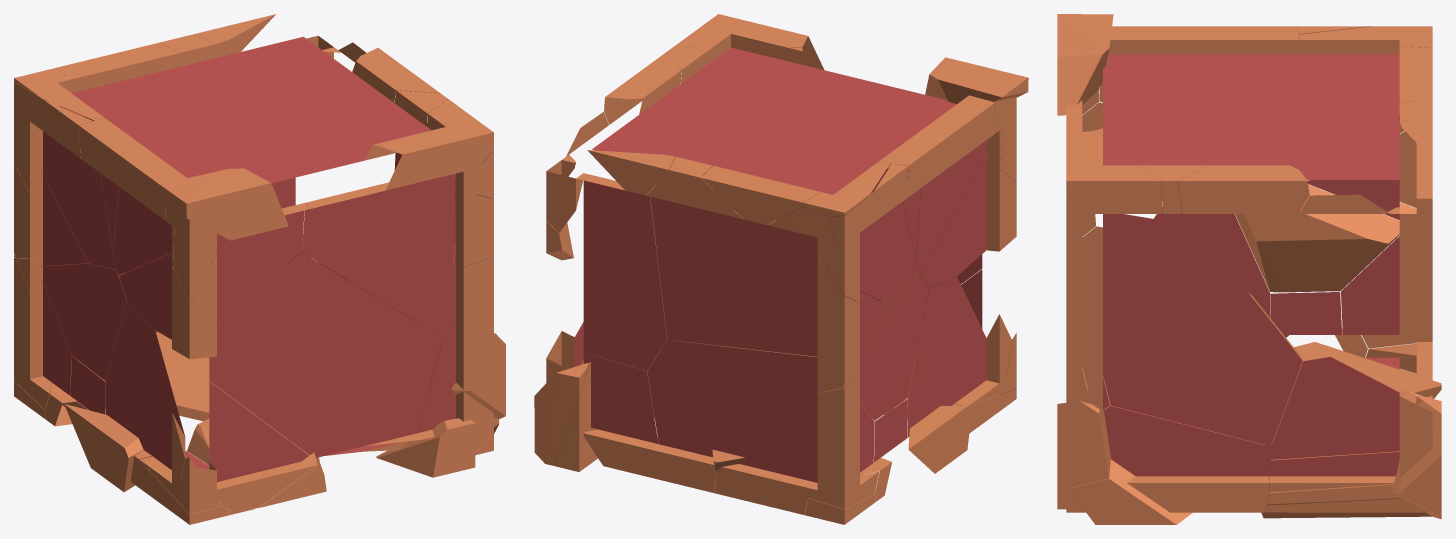
File: CrateBreak.fbx
3 views of the same model, side by side, from view 1: azimuth 30°, elevation 25°; view 2: azimuth 150°, elevation 25°; view 3: azimuth 270°, elevation 25° (orthographic). The views are drawn at different scales.
Visible parts, largest first — view 1: Cube.006_cell.009, Cube.011, Cube.006_cell, Cube.011_cell.003, Cube.010_cell.011, Cube.010_cell.012, Cube.010_cell.005, Cube.010_cell.007, Cube.007_cell.016, Cube.007_cell.020, Cube.011_cell.002, Cube.006_cell.010 (+32 smaller); view 2: Cube.011, Cube.006_cell.003, Cube.006_cell.005, Cube.006_cell.004, Cube.010_cell.011, Cube.011_cell.003, Cube.010_cell.007, Cube.010_cell.005, Cube.010_cell.012, Cube.010_cell.013, Cube.010_cell.014, Cube.007_cell.006 (+32 smaller); view 3: Cube.011, Cube.008_cell.018, Cube.008_cell.017, Cube.008_cell.019, Cube.008_cell.008, Cube.010_cell.012, Cube.011_cell.003, Cube.011_cell.002, Cube.008_cell.015, Cube.007_cell.021, Cube.007_cell.020, Cube.007_cell.006 (+28 smaller).
Boxes of the visible parts, x1=… form: Cube.006_cell.009: x1=209, y1=252, x2=442, y2=457; Cube.011: x1=146, y1=36, x2=431, y2=183; Cube.006_cell: x1=302, y1=173, x2=455, y2=337; Cube.011_cell.003: x1=157, y1=37, x2=383, y2=126; Cube.010_cell.011: x1=105, y1=301, x2=185, y2=487; Cube.010_cell.012: x1=17, y1=258, x2=135, y2=379; Cube.010_cell.005: x1=14, y1=110, x2=115, y2=269; Cube.010_cell.007: x1=119, y1=252, x2=216, y2=359; Cube.007_cell.016: x1=159, y1=168, x2=288, y2=240; Cube.007_cell.020: x1=381, y1=99, x2=493, y2=190; Cube.011_cell.002: x1=72, y1=72, x2=212, y2=147; Cube.006_cell.010: x1=209, y1=381, x2=308, y2=481; Cube.011: x1=597, y1=47, x2=956, y2=194; Cube.006_cell.003: x1=646, y1=189, x2=817, y2=356; Cube.006_cell.005: x1=647, y1=340, x2=817, y2=482; Cube.006_cell.004: x1=576, y1=173, x2=666, y2=370; Cube.010_cell.011: x1=908, y1=276, x2=1011, y2=437; Cube.011_cell.003: x1=592, y1=92, x2=816, y2=174; Cube.010_cell.007: x1=921, y1=152, x2=1016, y2=287; Cube.010_cell.005: x1=817, y1=201, x2=917, y2=305; Cube.010_cell.012: x1=843, y1=274, x2=928, y2=420; Cube.010_cell.013: x1=817, y1=258, x2=890, y2=392; Cube.010_cell.014: x1=817, y1=386, x2=874, y2=496; Cube.007_cell.006: x1=880, y1=95, x2=994, y2=195; Cube.011: x1=1103, y1=54, x2=1399, y2=179; Cube.008_cell.018: x1=1069, y1=291, x2=1302, y2=446; Cube.008_cell.017: x1=1066, y1=210, x2=1246, y2=311; Cube.008_cell.019: x1=1104, y1=406, x2=1270, y2=512; Cube.008_cell.008: x1=1271, y1=357, x2=1432, y2=477; Cube.010_cell.012: x1=1235, y1=184, x2=1416, y2=292; Cube.011_cell.003: x1=1235, y1=98, x2=1399, y2=179; Cube.011_cell.002: x1=1242, y1=54, x2=1399, y2=105; Cube.008_cell.015: x1=1261, y1=390, x2=1431, y2=518; Cube.007_cell.021: x1=1178, y1=165, x2=1309, y2=213; Cube.007_cell.020: x1=1066, y1=130, x2=1162, y2=213; Cube.007_cell.006: x1=1108, y1=26, x2=1300, y2=54.
Bounding box in the file's own units: 210 × 210 × 210.
